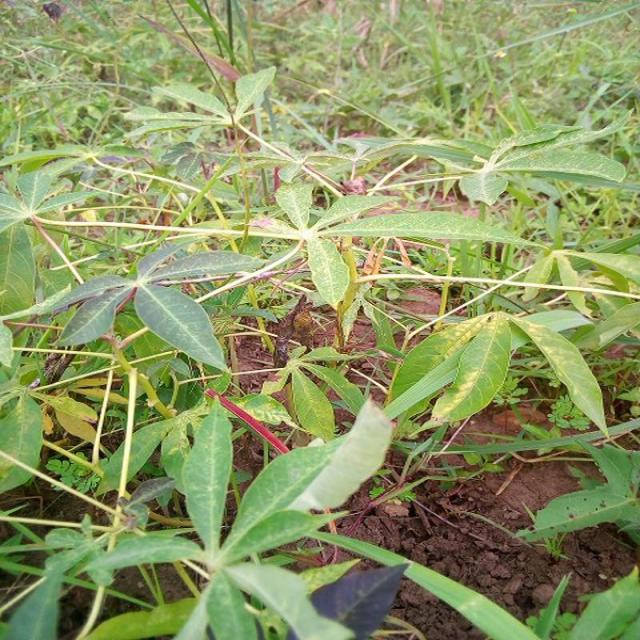cassava leaf: (511, 314, 610, 439), (430, 316, 511, 424), (133, 281, 227, 374)
